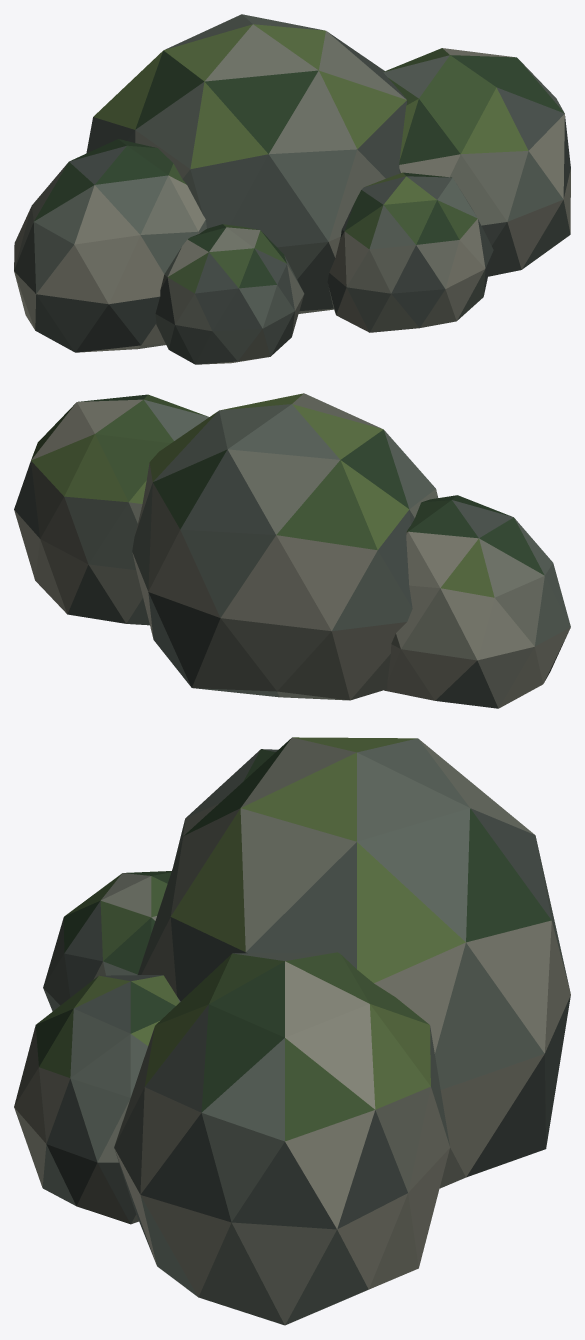
The picture shows the model from 3 angles, top to bottom: view 1: azimuth 30°, elevation 25°; view 2: azimuth 150°, elevation 25°; view 3: azimuth 270°, elevation 25°; orthographic projection. The views are drawn at different scales.
Parts seen in each view (by area): view 1: mossy-boulder-bank · evaluated preview mesh; view 2: mossy-boulder-bank · evaluated preview mesh; view 3: mossy-boulder-bank · evaluated preview mesh.
Boxes of the visible parts, box(x1,y1,x2,y2) form: mossy-boulder-bank · evaluated preview mesh: box(14, 14, 570, 364); mossy-boulder-bank · evaluated preview mesh: box(14, 393, 570, 708); mossy-boulder-bank · evaluated preview mesh: box(14, 737, 570, 1325).
Bounding box in the file's own units: 8.95 × 4.16 × 5.42.
